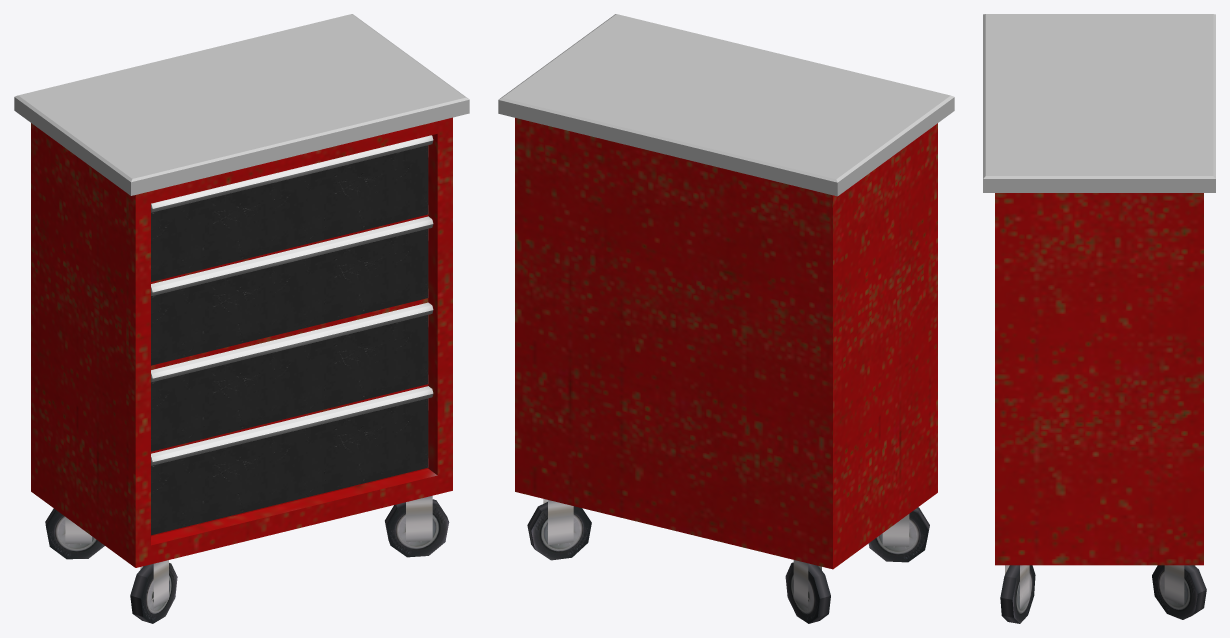
The model's file is carrito.obj.
The picture shows the model from 3 angles, left to right: view 1: azimuth 30°, elevation 25°; view 2: azimuth 150°, elevation 25°; view 3: azimuth 270°, elevation 25°; orthographic projection.
Visible parts, largest first — view 1: drawers_Cube.005, tool_chest_Cube, tool_chest_top_Cube.001, drawer_handles_Cube.009, wheel_3_Plane.002, wheel_1_Plane.002, wheel_2_Plane.002; view 2: tool_chest_Cube, tool_chest_top_Cube.001, wheel_4_Plane.002, wheel_2_Plane.002, wheel_1_Plane.002; view 3: tool_chest_Cube, tool_chest_top_Cube.001, wheel_4_Plane.002, wheel_3_Plane.002.
Boxes of the visible parts, x1,y1,x2,y2 form: drawers_Cube.005: (151, 145, 428, 535); tool_chest_Cube: (31, 117, 452, 567); tool_chest_top_Cube.001: (14, 14, 469, 195); drawer_handles_Cube.009: (151, 135, 433, 465); wheel_3_Plane.002: (385, 495, 449, 557); wheel_1_Plane.002: (130, 560, 177, 623); wheel_2_Plane.002: (45, 508, 104, 559); tool_chest_Cube: (515, 118, 937, 569); tool_chest_top_Cube.001: (498, 14, 954, 196); wheel_4_Plane.002: (527, 499, 591, 560); wheel_2_Plane.002: (785, 560, 830, 623); wheel_1_Plane.002: (868, 507, 929, 562); tool_chest_Cube: (995, 193, 1203, 565); tool_chest_top_Cube.001: (983, 14, 1215, 192); wheel_4_Plane.002: (1152, 565, 1206, 619); wheel_3_Plane.002: (1000, 565, 1035, 623).
Size of the model in its own units: 3.73 by 4.85 by 2.23.
Materials: 6 (5 with a texture image).
